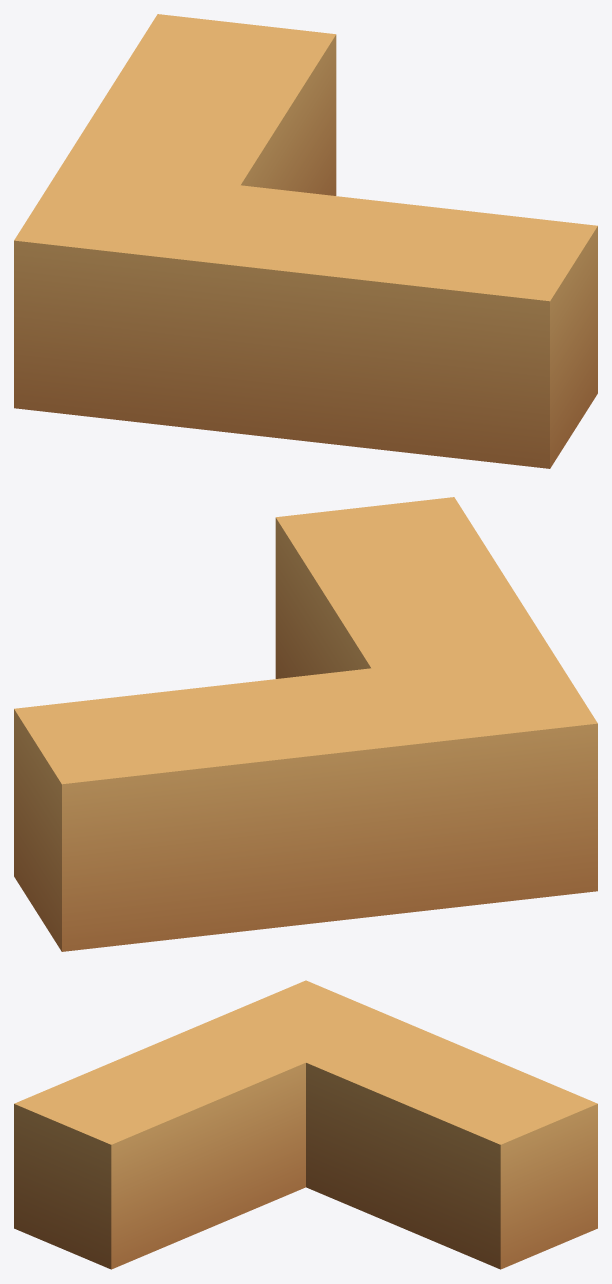
The model's file is factory-kit--arrow-basic.glb.
3 views of the same model, one above another, from view 1: azimuth 30°, elevation 25°; view 2: azimuth 150°, elevation 25°; view 3: azimuth 270°, elevation 25° (orthographic). The views are drawn at different scales.
Parts seen in each view (by area): view 1: arrow-basic; view 2: arrow-basic; view 3: arrow-basic.
Part boxes in pixels (x1=…): arrow-basic: x1=14, y1=14, x2=597, y2=468; arrow-basic: x1=14, y1=497, x2=597, y2=951; arrow-basic: x1=14, y1=980, x2=597, y2=1269.
Size of the model in its own units: 0.5657 by 0.2 by 0.8485.
1 material, 1 textured.
